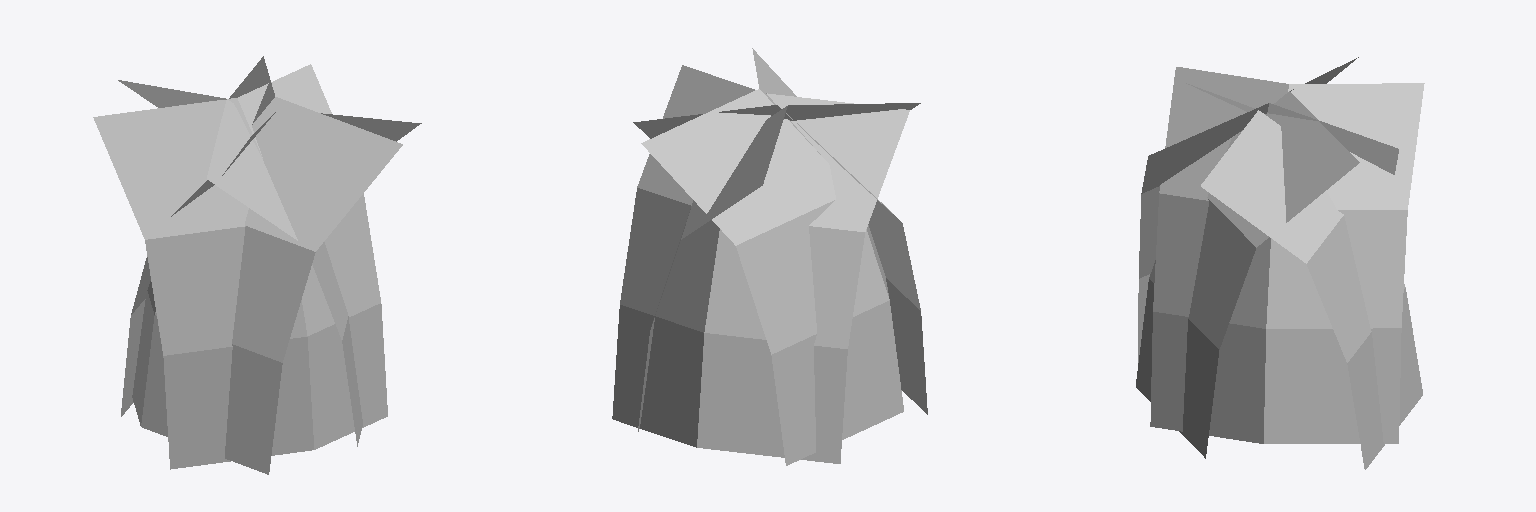
File: bush.obj
3 views of the same model, side by side, from view 1: azimuth 30°, elevation 25°; view 2: azimuth 150°, elevation 25°; view 3: azimuth 270°, elevation 25° (orthographic).
Parts seen in each view (by area): view 1: bush2; view 2: bush2; view 3: bush2.
Part boxes in pixels (x1,y1,x2,y2): bush2: (93,56,421,474); bush2: (612,48,927,465); bush2: (1136,57,1424,469).
Bounding box in the file's own units: 1.65 × 2.01 × 1.65.